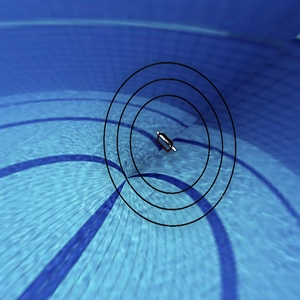circle: (95, 50, 243, 235)
submarine: (144, 124, 181, 158)
